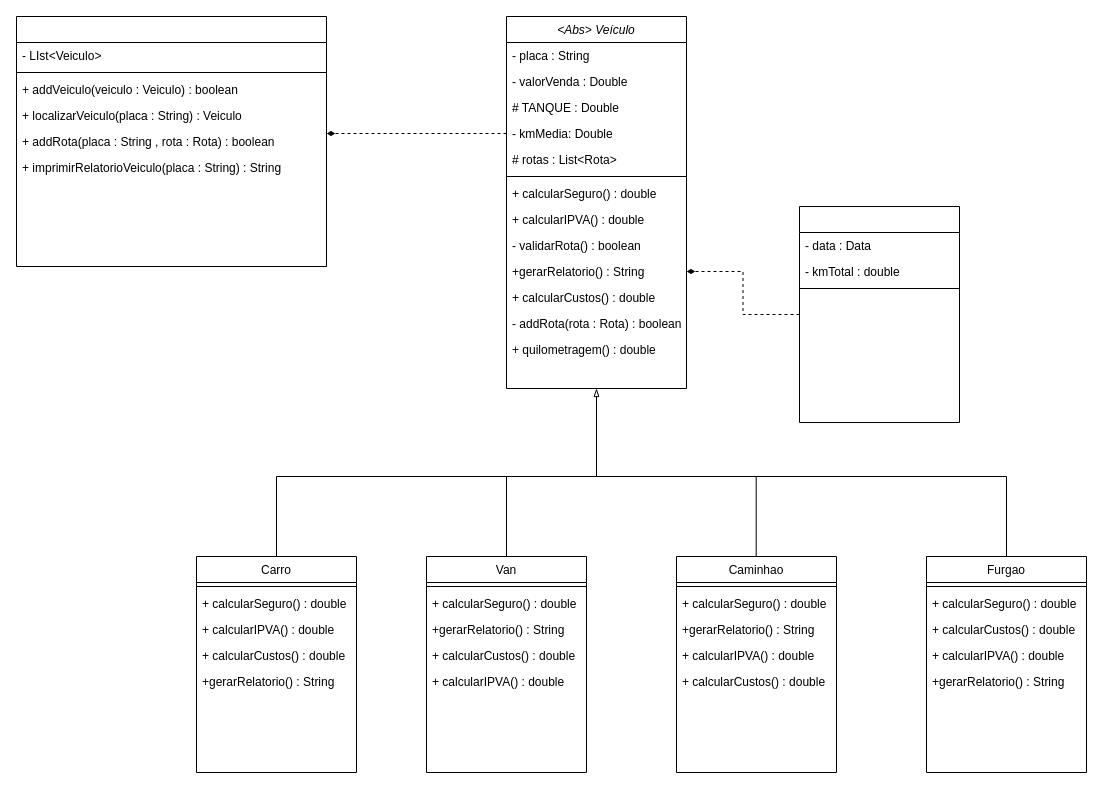
Image size: 1103x789. Some labels were removed from this diagram. Here are the shapes that lost their labels. From the top down, the box of each, then its label:
(16, 16, 326, 266): Frota
(798, 206, 960, 422): Rota
